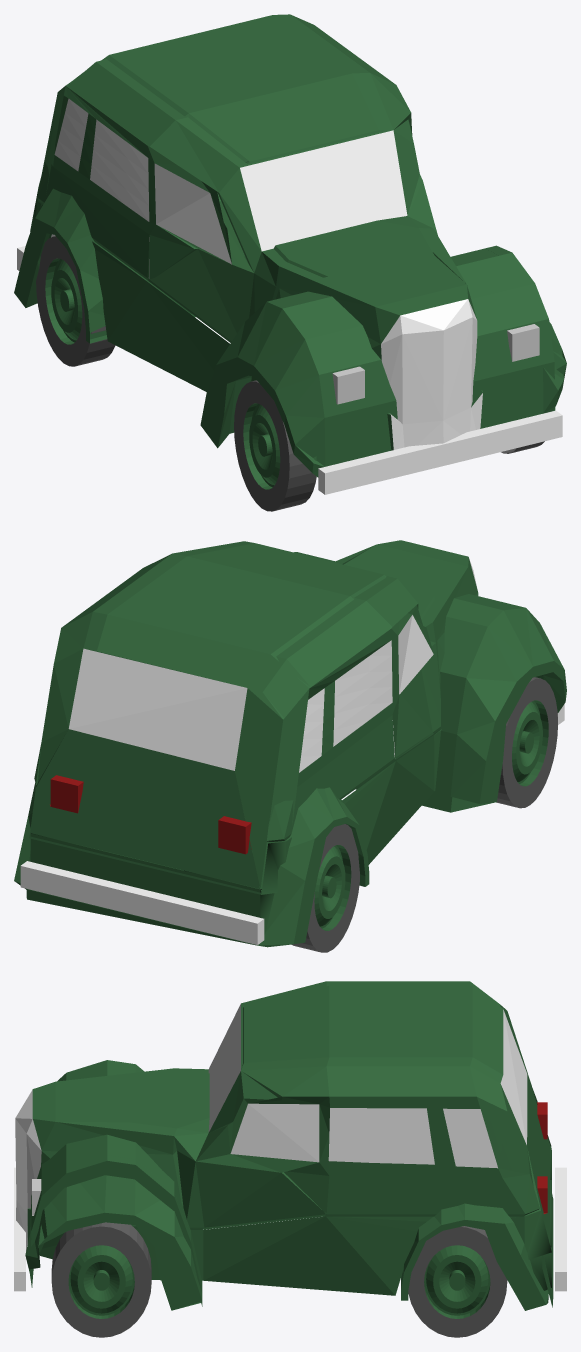
File: ford-prefect-early-green.dae
The picture shows the model from 3 angles, top to bottom: view 1: azimuth 30°, elevation 25°; view 2: azimuth 150°, elevation 25°; view 3: azimuth 270°, elevation 25°; orthographic projection. The views are drawn at different scales.
Visible parts, largest first — view 1: Cube_016, Cube_017, Cube_002, Circle_007, Circle_008, Cube_463; view 2: Cube_016, Cube_017, Cube_003, Circle_007, Circle_008, Cube_001; view 3: Cube_016, Cube_017, Circle_007, Circle_008, Cube_003, Cube_002, Cube_001.
Part boxes in pixels (x1,y1,x2,y2): Cube_016: (30,14,482,450); Cube_017: (14,188,566,477); Cube_002: (318,410,562,494); Circle_007: (234,380,544,511); Circle_008: (36,236,115,366); Cube_463: (332,324,539,404); Cube_016: (29,540,478,934); Cube_017: (14,552,566,947); Cube_003: (20,861,264,944); Circle_007: (496,677,557,808); Circle_008: (292,824,359,952); Cube_001: (50,775,251,854); Cube_016: (15,981,551,1295); Cube_017: (25,1060,553,1310); Circle_007: (51,1222,151,1337); Circle_008: (408,1226,507,1337); Cube_003: (555,1167,566,1291); Cube_002: (14,1167,25,1291); Cube_001: (537,1102,547,1213).
Size of the model in its own units: 1.14 by 2.2 by 1.14.
